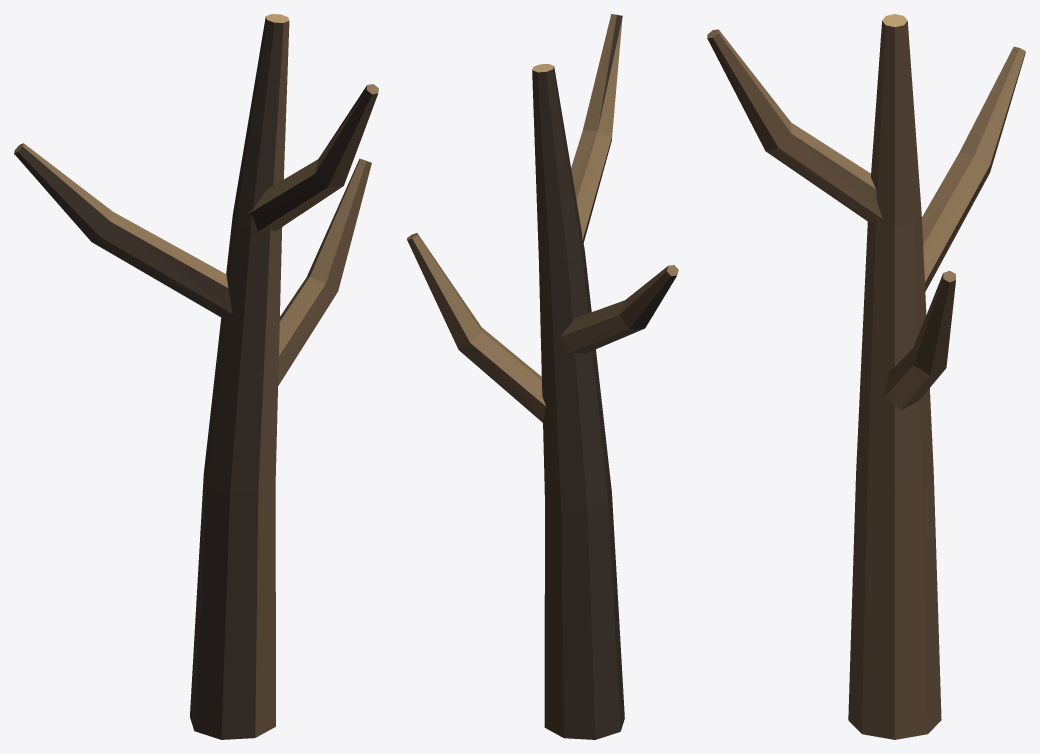
Rendered from TW_TREE_DEAD_FORK_A_LOD0.glb.
The picture shows the model from 3 angles, left to right: view 1: azimuth 30°, elevation 25°; view 2: azimuth 150°, elevation 25°; view 3: azimuth 270°, elevation 25°; orthographic projection. The views are drawn at different scales.
Visible parts, largest first — view 1: TW_TREE_DEAD_FORK_A_LOD0; view 2: TW_TREE_DEAD_FORK_A_LOD0; view 3: TW_TREE_DEAD_FORK_A_LOD0.
Part boxes in pixels (left/top/right/bottom): TW_TREE_DEAD_FORK_A_LOD0: left=14, top=14, right=378, bottom=739; TW_TREE_DEAD_FORK_A_LOD0: left=407, top=14, right=678, bottom=739; TW_TREE_DEAD_FORK_A_LOD0: left=707, top=14, right=1025, bottom=739.
Size of the model in its own units: 1.31 by 2.67 by 1.07.
1 material, 1 textured.
